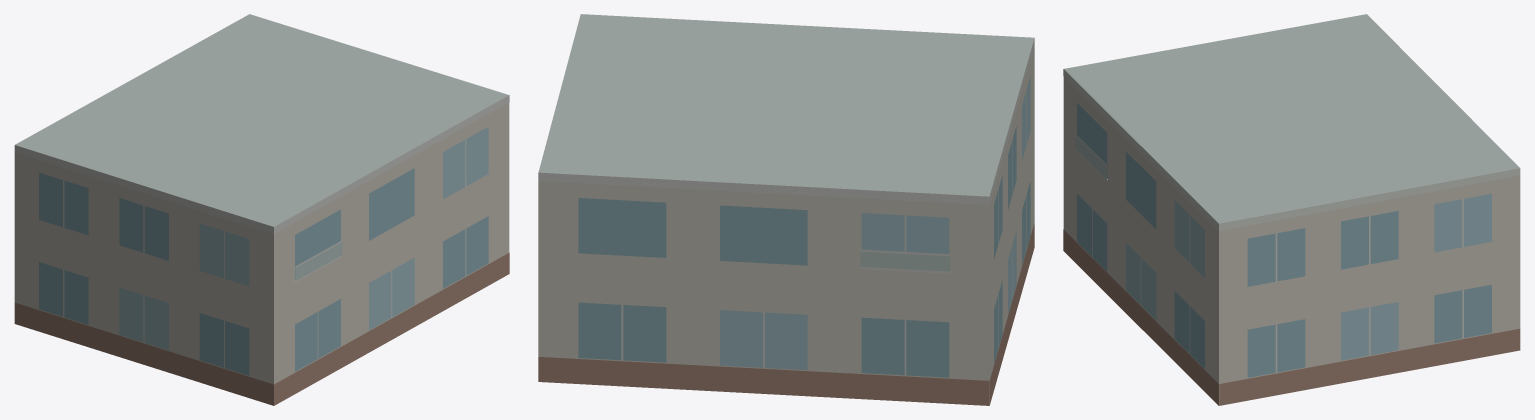
Rendered from survey-upis-32687556.glb.
The picture shows the model from 3 angles, left to right: view 1: azimuth 30°, elevation 25°; view 2: azimuth 150°, elevation 25°; view 3: azimuth 270°, elevation 25°; orthographic projection. The views are drawn at different scales.
Parts seen in each view (by area): view 1: survey-upis-32687556.tmp; view 2: survey-upis-32687556.tmp; view 3: survey-upis-32687556.tmp.
Part boxes in pixels (bbox=[...]): survey-upis-32687556.tmp: bbox=[14, 14, 509, 405]; survey-upis-32687556.tmp: bbox=[538, 14, 1034, 405]; survey-upis-32687556.tmp: bbox=[1063, 14, 1520, 405].
Size of the model in its own units: 15.07 by 6.1 by 13.88.
